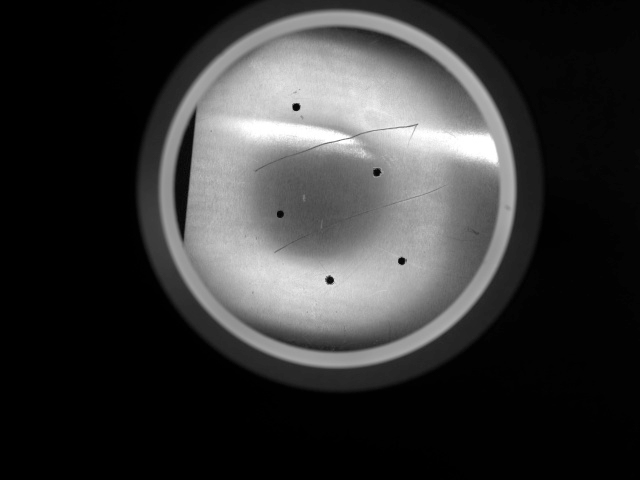ca_shang: (263, 180, 449, 270), (250, 115, 425, 181)
zhen_kong: (286, 98, 307, 118), (320, 271, 340, 290), (392, 252, 412, 270), (367, 164, 386, 182), (271, 205, 289, 222)
